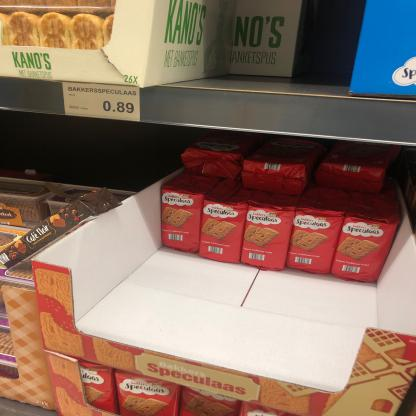prtg: (63, 83, 141, 123)
